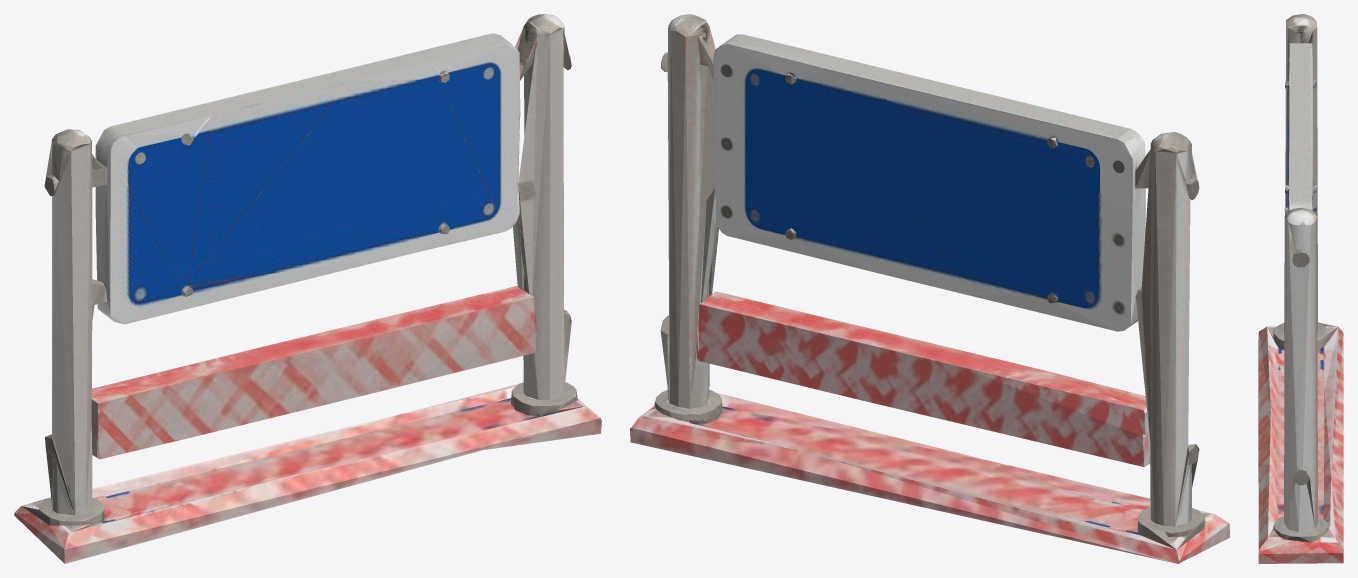
File: fence.glb
3 renders of one model, left to right at view 1: azimuth 30°, elevation 25°; view 2: azimuth 150°, elevation 25°; view 3: azimuth 270°, elevation 25°, orthographic. The views are drawn at different scales.
Bounding box in the file's own units: 1.9 × 1.37 × 0.311.
Materials: 1 (1 with a texture image).
